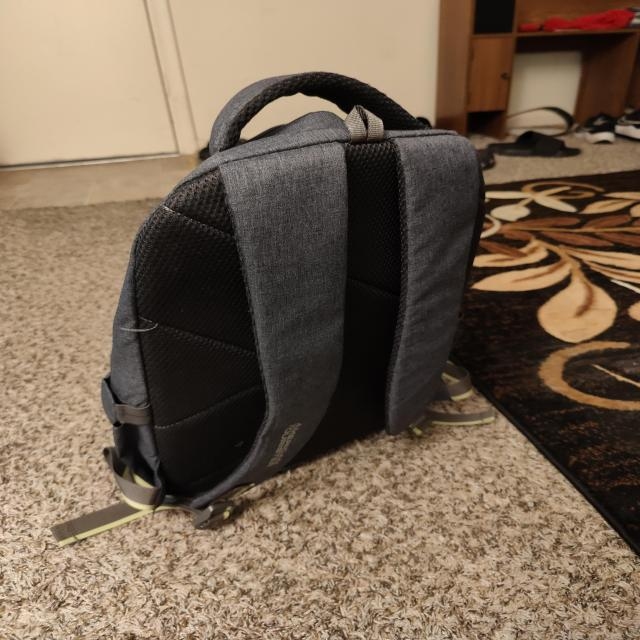bag: (128, 79, 486, 485)
